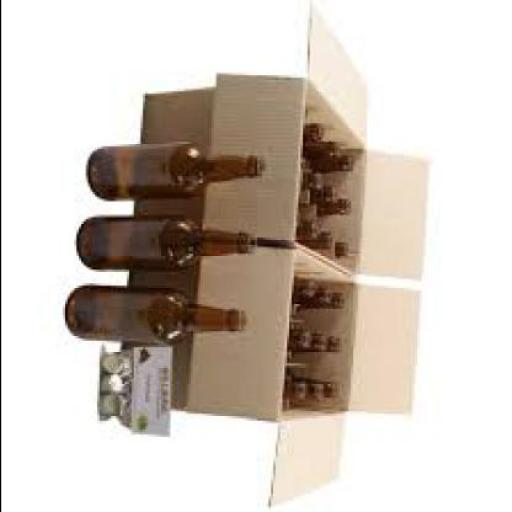cardboard: (189, 247, 298, 414), (210, 73, 309, 233), (358, 148, 432, 276), (352, 279, 421, 409), (309, 2, 370, 142), (272, 409, 350, 503), (139, 88, 213, 142), (302, 78, 354, 139), (295, 242, 354, 279), (137, 196, 206, 215), (171, 338, 190, 405), (135, 267, 199, 286)
glass: (85, 140, 267, 198), (64, 284, 246, 340), (76, 213, 255, 269), (310, 151, 352, 169), (281, 370, 306, 400), (320, 196, 352, 215), (288, 325, 313, 347), (308, 142, 340, 158), (297, 277, 322, 297), (299, 218, 318, 240), (307, 378, 326, 397), (313, 331, 332, 350), (318, 183, 336, 201), (318, 228, 338, 244), (327, 380, 343, 399), (330, 292, 349, 308), (306, 169, 325, 185), (308, 121, 324, 140), (316, 290, 335, 304), (336, 238, 350, 254), (331, 336, 343, 346)
